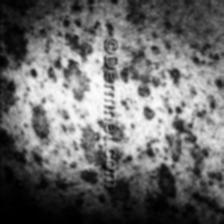Non-Cancerous Skin Condition: (0, 0, 100, 208), (131, 129, 224, 224), (145, 0, 198, 105)
